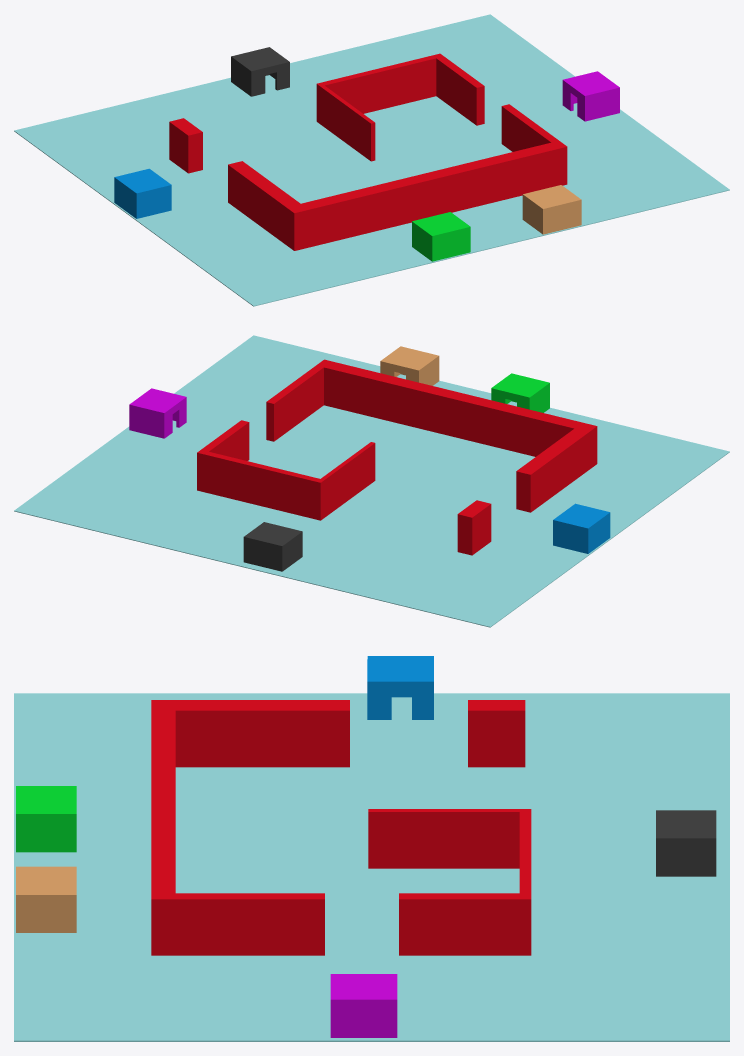
The model's file is BattleRoyaleMap.fbx.
The picture shows the model from 3 angles, top to bottom: view 1: azimuth 30°, elevation 25°; view 2: azimuth 150°, elevation 25°; view 3: azimuth 270°, elevation 25°; orthographic projection. The views are drawn at different scales.
Visible parts, largest first — view 1: floor; view 2: floor; view 3: floor.
Part boxes in pixels (x1,y1,x2,y2): floor: (14,14,729,306); floor: (14,335,729,627); floor: (14,656,729,1041).
Bounding box in the file's own units: 22579 × 1748 × 19672.
